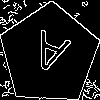A: (24, 29, 72, 84)
